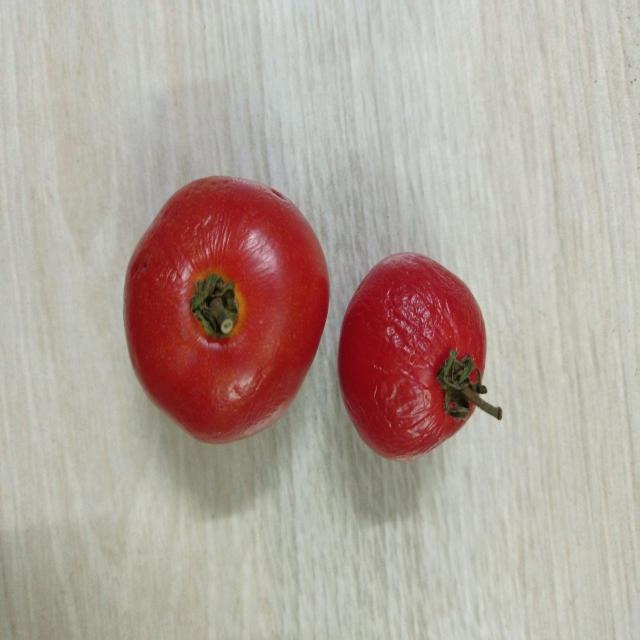overripe: (120, 169, 330, 446), (336, 246, 489, 463)
